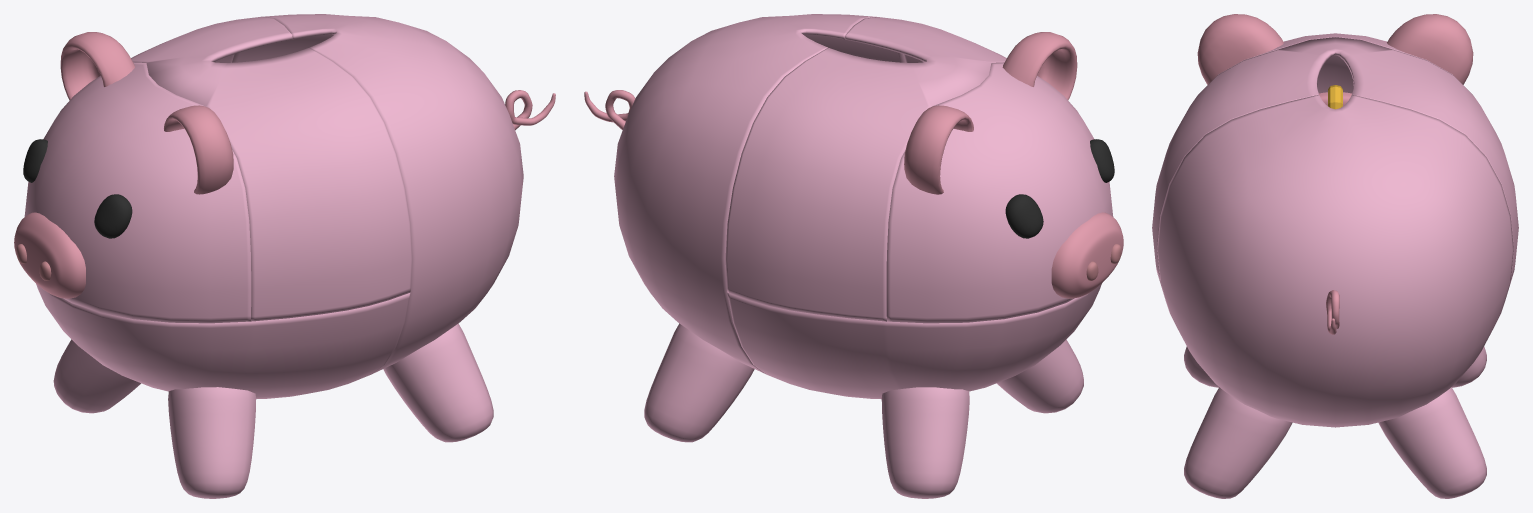
Rendered from PigBreak.fbx.
The picture shows the model from 3 angles, left to right: view 1: azimuth 30°, elevation 25°; view 2: azimuth 150°, elevation 25°; view 3: azimuth 270°, elevation 25°; orthographic projection. The views are drawn at different scales.
Parts seen in each view (by area): view 1: Cube, Cube.064, Cube.063, Cube.100, Cube.065, Cube.012, Cube.010, Cube.002, Vert; view 2: Cube, Cube.064, Cube.063, Cube.100, Cube.065, Cube.012, Cube.010, Cube.002, Vert; view 3: Cube.063, Cube, Cube.065, Cube.012, Cube.064, Cube.100, Vert.
Boxes of the visible parts, box(x1,y1,x2,y2) form: Cube: box(131, 17, 412, 321); Cube.064: box(24, 62, 251, 323); Cube.063: box(232, 14, 523, 374); Cube.100: box(36, 284, 410, 498); Cube.065: box(383, 323, 493, 442); Cube.012: box(60, 32, 233, 194); Cube.010: box(14, 212, 85, 298); Cube.002: box(23, 139, 132, 238); Vert: box(505, 90, 555, 130); Cube: box(725, 17, 1006, 321); Cube.064: box(886, 62, 1113, 323); Cube.063: box(614, 14, 905, 374); Cube.100: box(727, 283, 1101, 498); Cube.065: box(644, 323, 754, 442); Cube.012: box(904, 32, 1077, 194); Cube.010: box(1051, 212, 1123, 298); Cube.002: box(1005, 139, 1114, 238); Vert: box(584, 90, 635, 129); Cube.063: box(1157, 94, 1513, 427); Cube: box(1152, 37, 1518, 280); Cube.065: box(1184, 387, 1486, 498); Cube.012: box(1197, 14, 1473, 84); Cube.064: box(1218, 33, 1452, 93); Cube.100: box(1157, 274, 1513, 387); Vert: box(1326, 290, 1339, 334).
Bounding box in the file's own units: 123 × 85.5 × 78.38.
